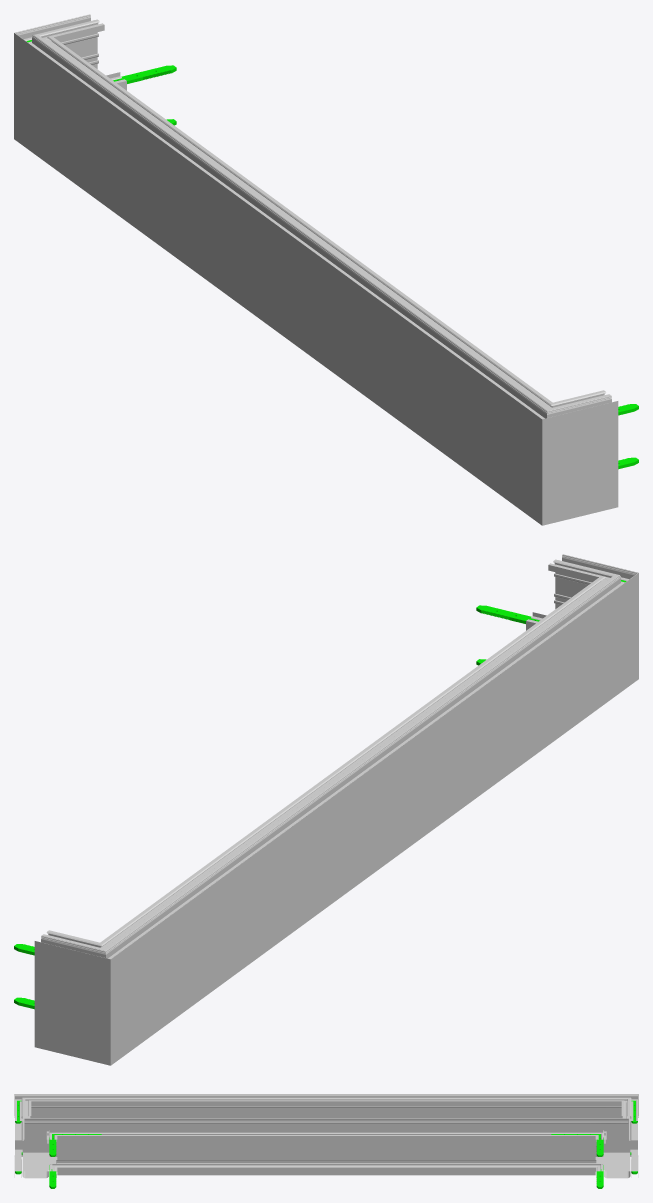
The picture shows the model from 3 angles, top to bottom: view 1: azimuth 30°, elevation 25°; view 2: azimuth 150°, elevation 25°; view 3: azimuth 270°, elevation 25°; orthographic projection. The views are drawn at different scales.
Visible parts, largest first — view 1: 3DGeom-237, 3DGeom-239, 3DGeom-231; view 2: 3DGeom-237, 3DGeom-231, 3DGeom-239; view 3: 3DGeom-237, 3DGeom-231, 3DGeom-239, 3DGeom-10 (×2).
Part boxes in pixels (x1,y1,x2,y2): 3DGeom-237: (58,59,522,493); 3DGeom-239: (498,381,618,525); 3DGeom-231: (14,14,126,170); 3DGeom-237: (130,599,594,1033); 3DGeom-231: (34,921,154,1065); 3DGeom-239: (526,554,638,710); 3DGeom-237: (66,1094,586,1175); 3DGeom-231: (587,1094,638,1178); 3DGeom-239: (14,1094,65,1178); 3DGeom-10 (×2): (49,1134,603,1156).
Size of the model in its own units: 0.2562 by 0.2032 by 1.83.
